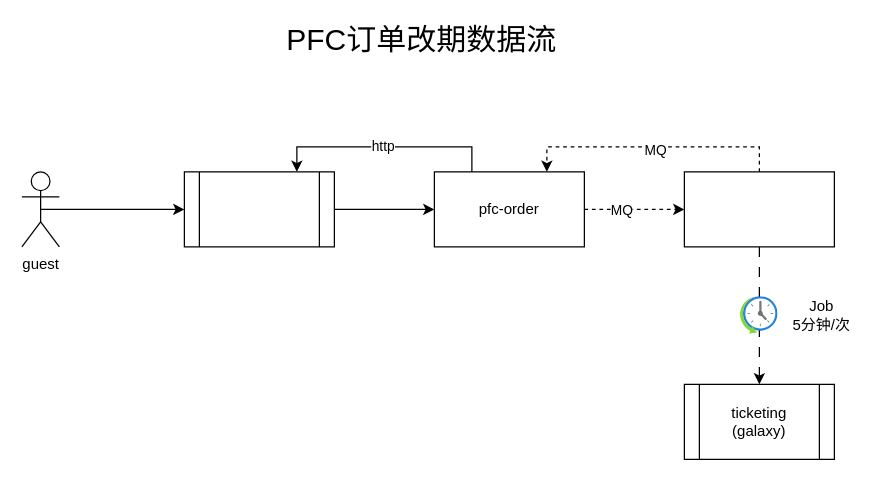
This 881x481 diagram has some shape labels left out. Here are the shapes that lost their labels. From the top down, the box of each, then its label:
(183, 171, 334, 247): date-change
(683, 171, 834, 247): pfc-core
